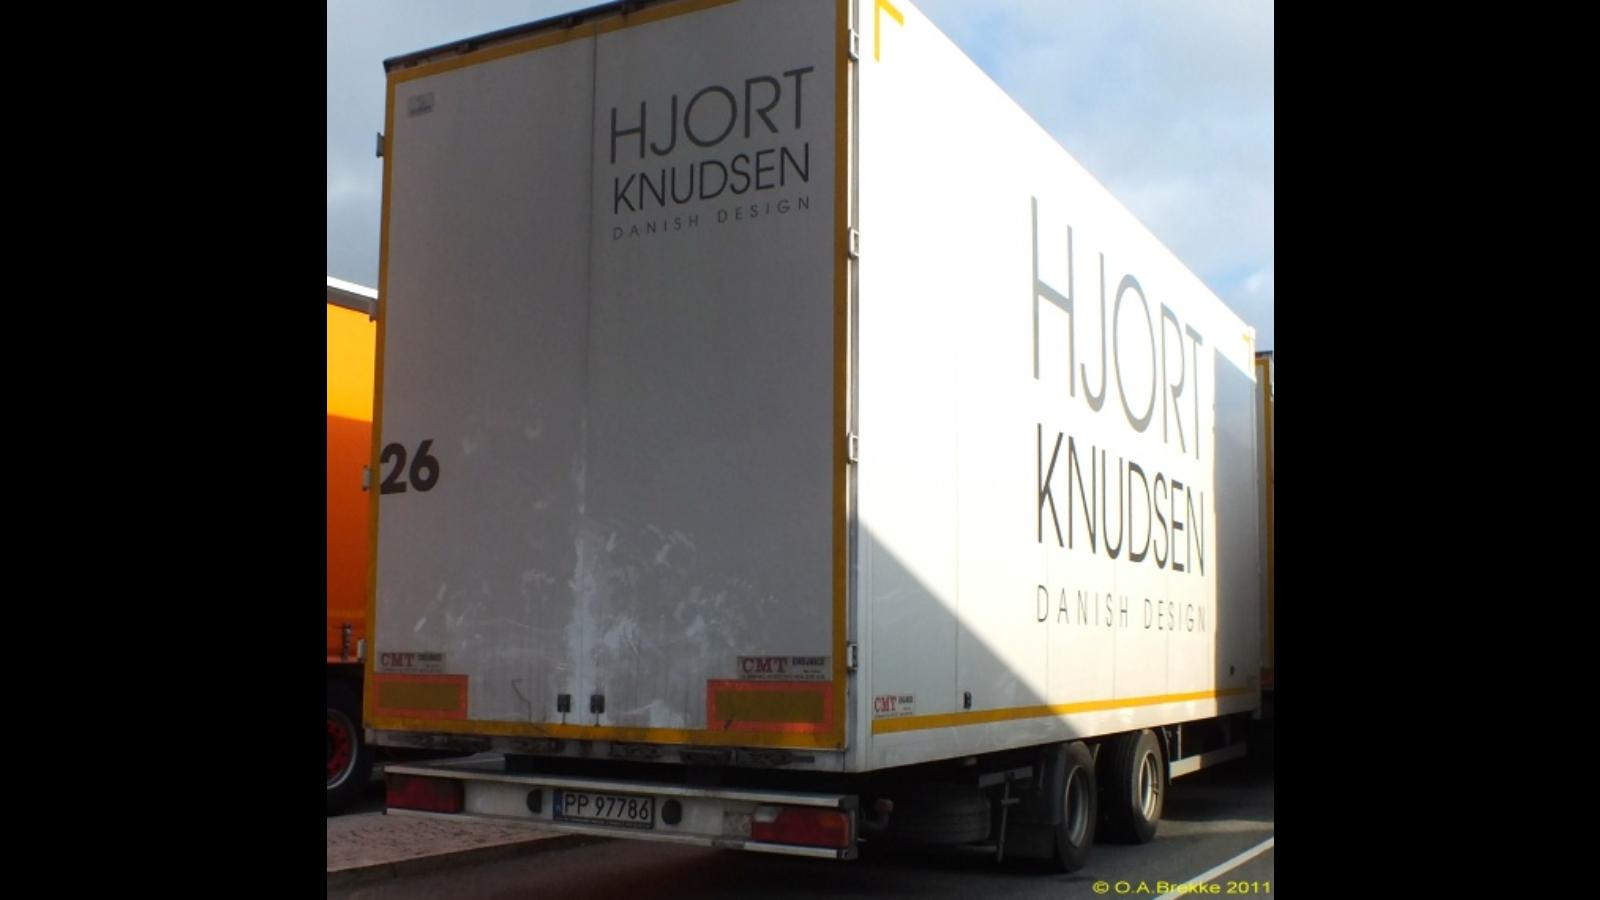plates: (552, 789, 654, 828)
